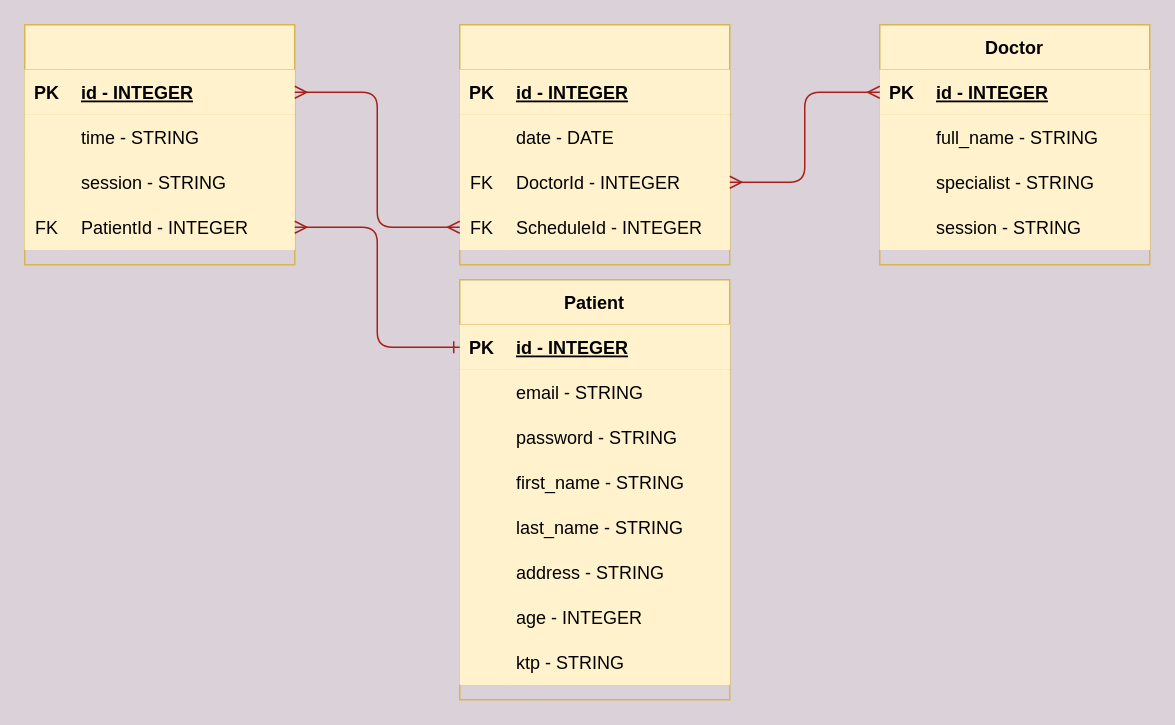
Some shapes in this 1175 by 725 pixel diagram are drawn without their labels. The shapes that lost their labels are listed below. From the top down, each one's box as (x1, y1, x2, y2) in pixels, then its label:
(23, 23, 295, 265): Schedule
(458, 23, 730, 265): ScheduleDoctor
